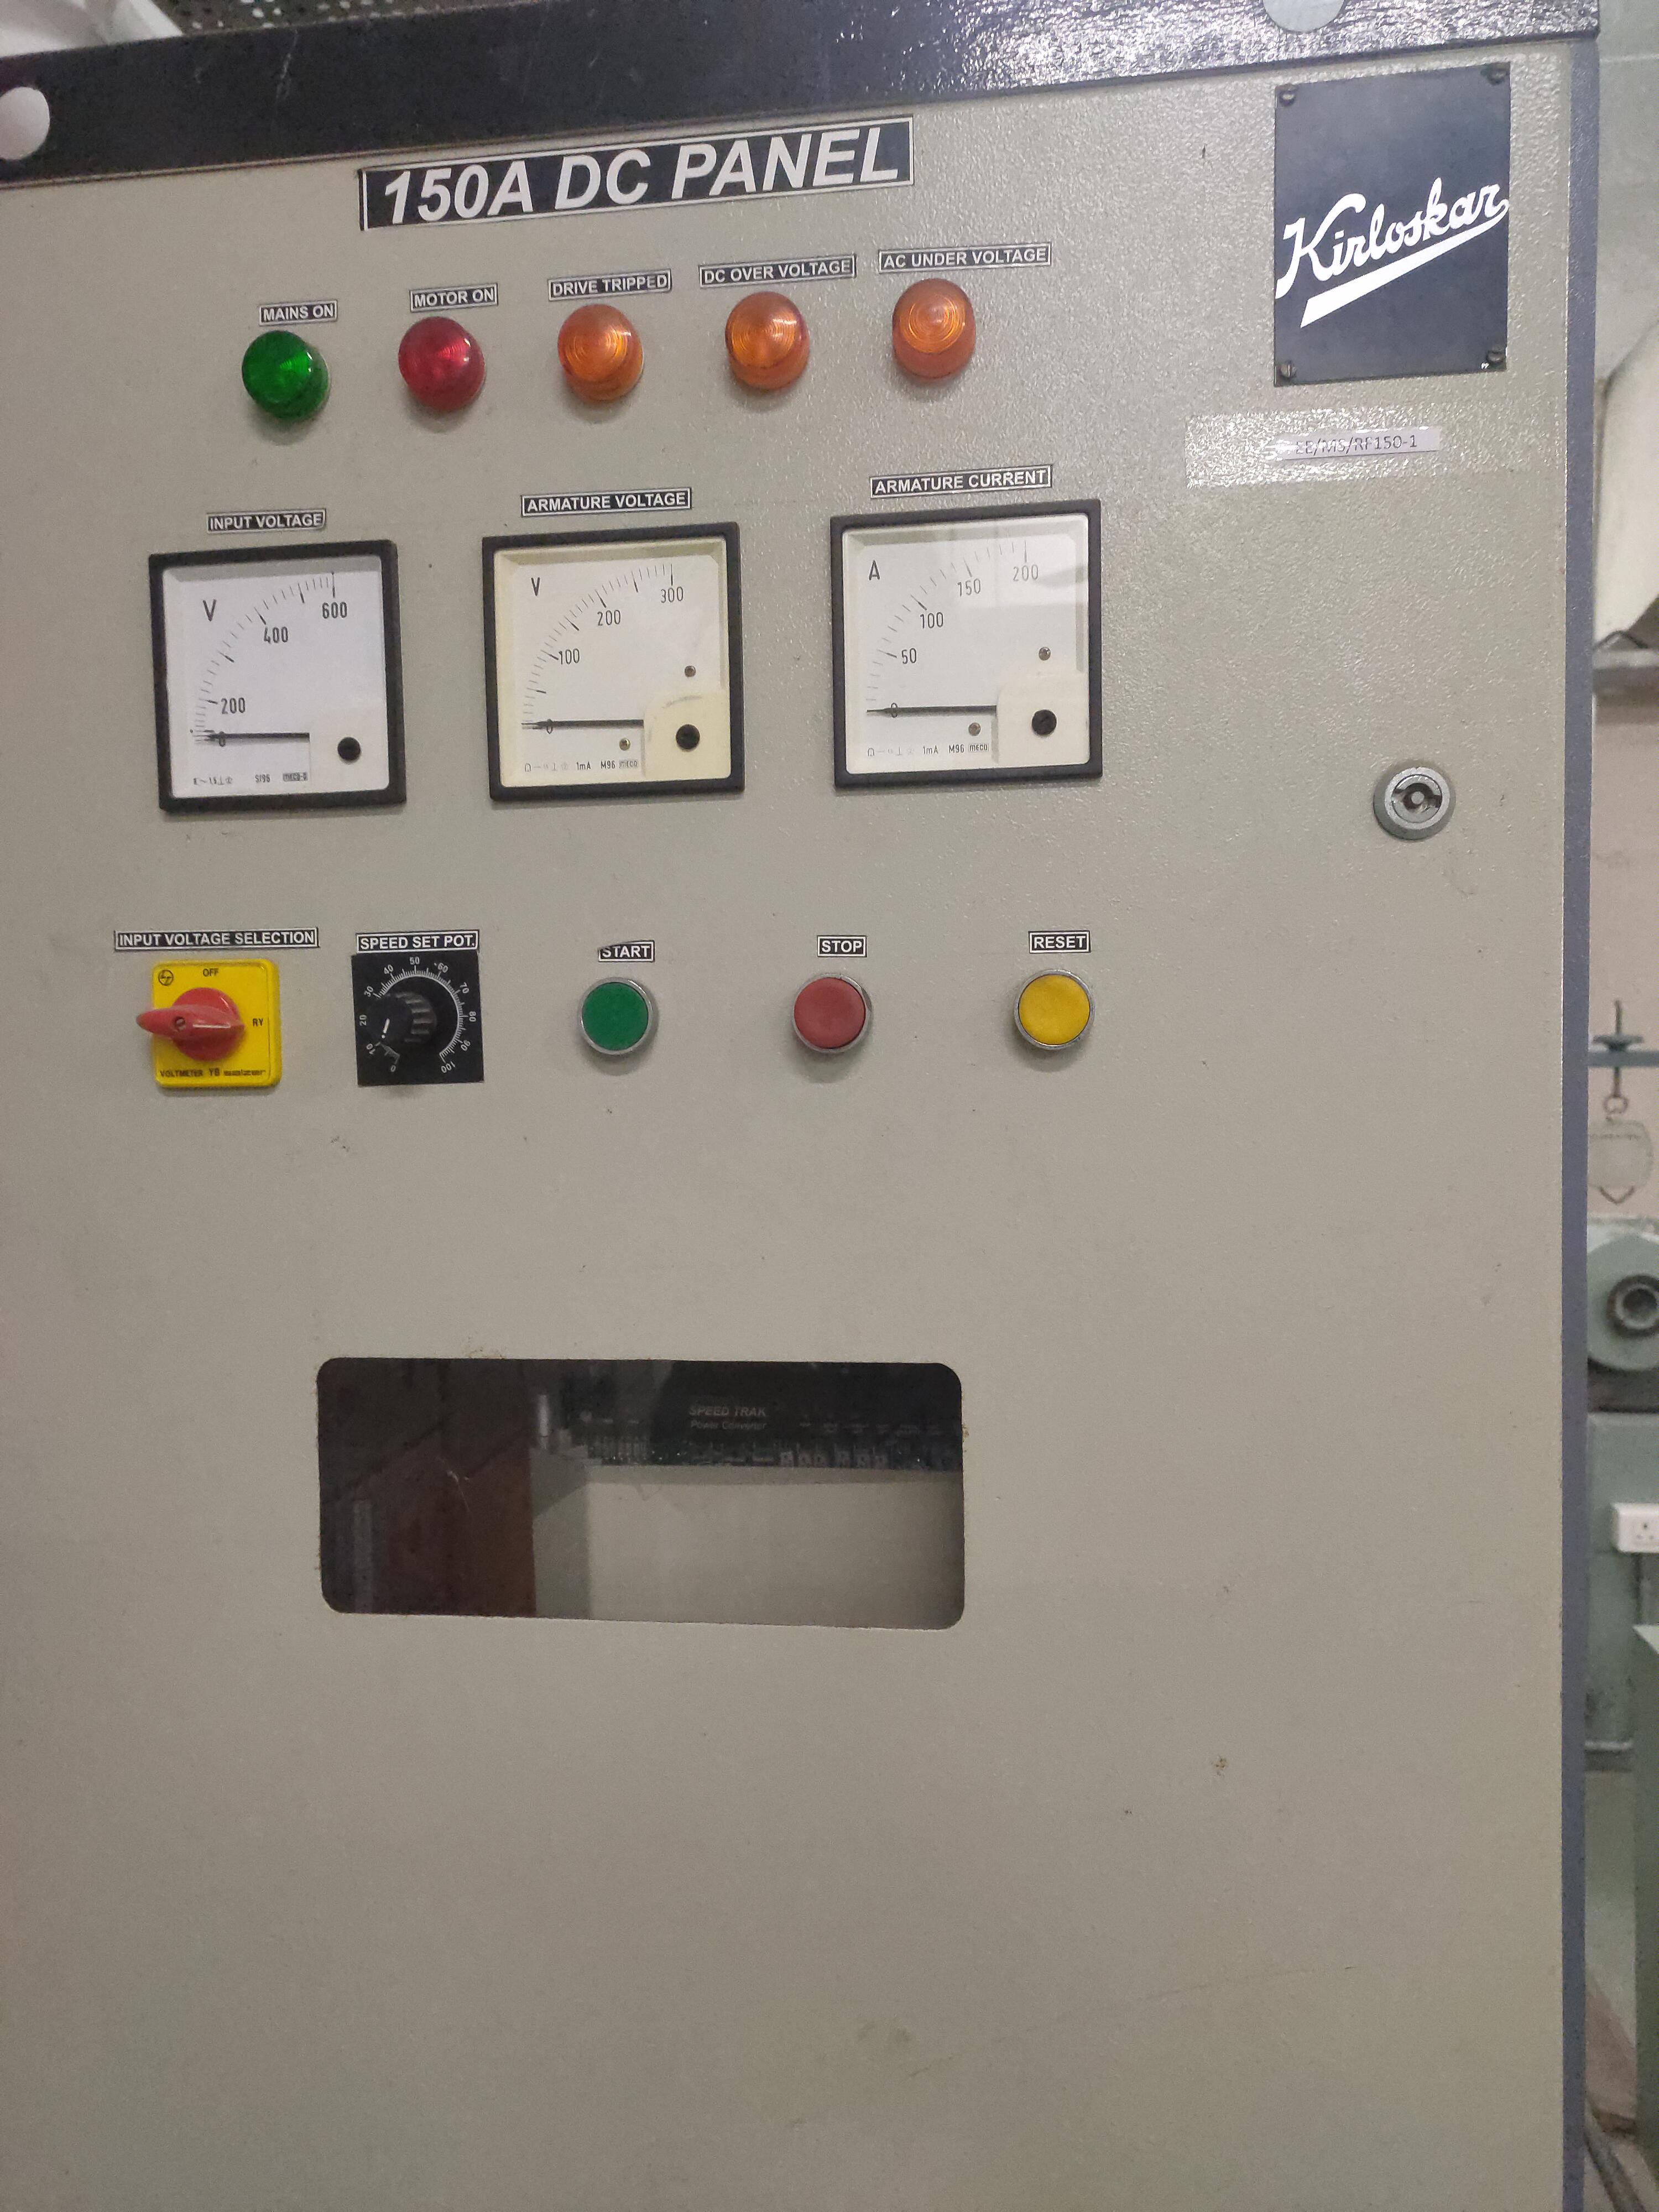Light Indications: (190, 247, 1011, 446)
